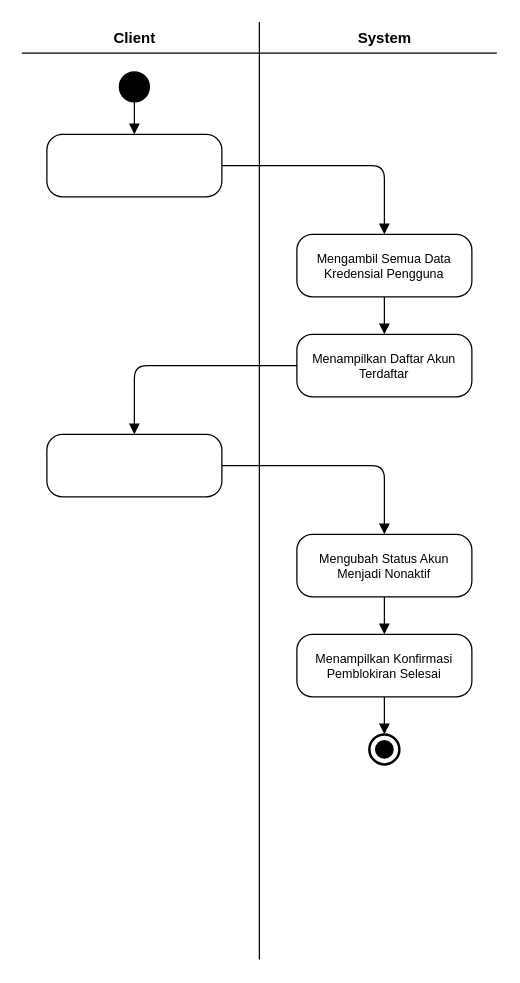
Some shapes in this 520 by 983 pixel diagram are drawn without their labels. Here are the shapes that lost their labels. From the top down, the centre of each, then its label:
[134,165]: Membuka Menu Kelola Pengguna /admin/users
[134,465]: Memilih Akun Pelanggar & Klik Suspend
